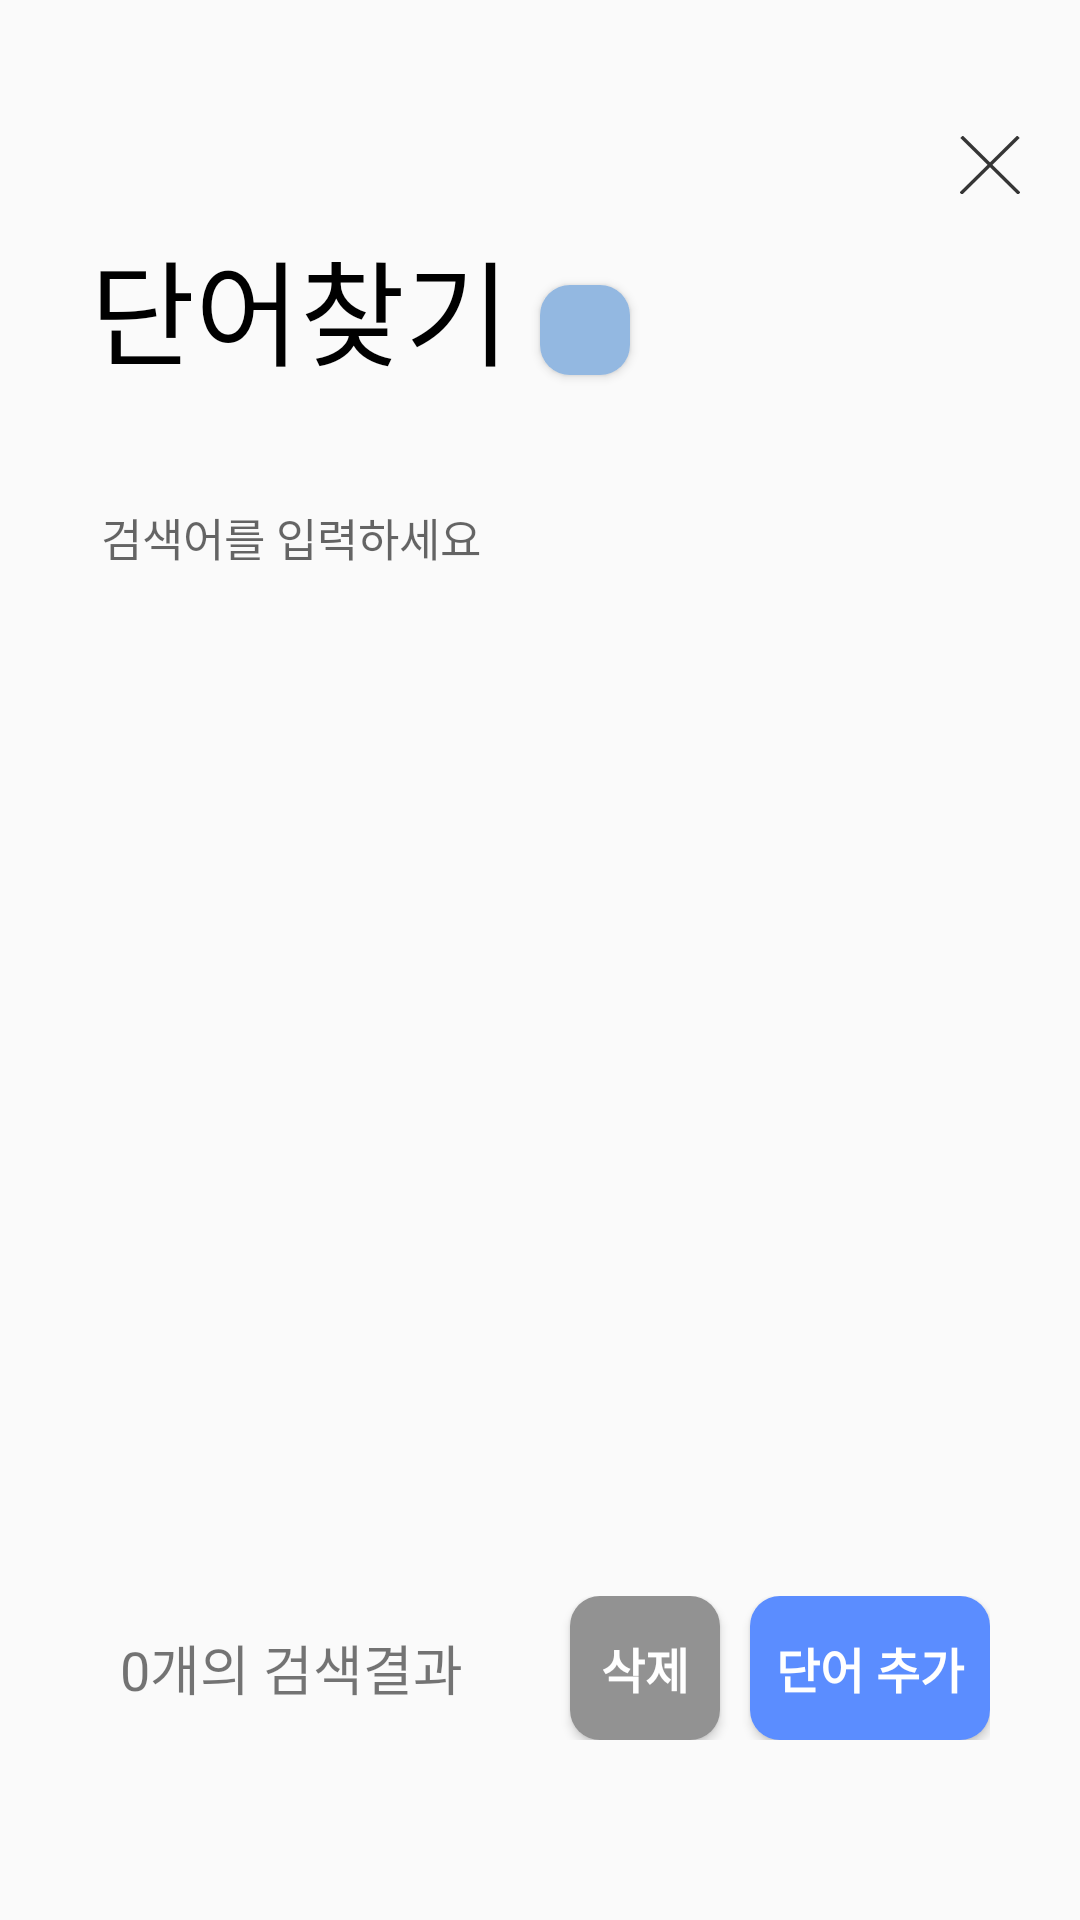

Icon bounding boxes for this 1080 × 1920 phone screenshot, format (x1, y1, x2, y2):
close: (960, 136, 1020, 194)
